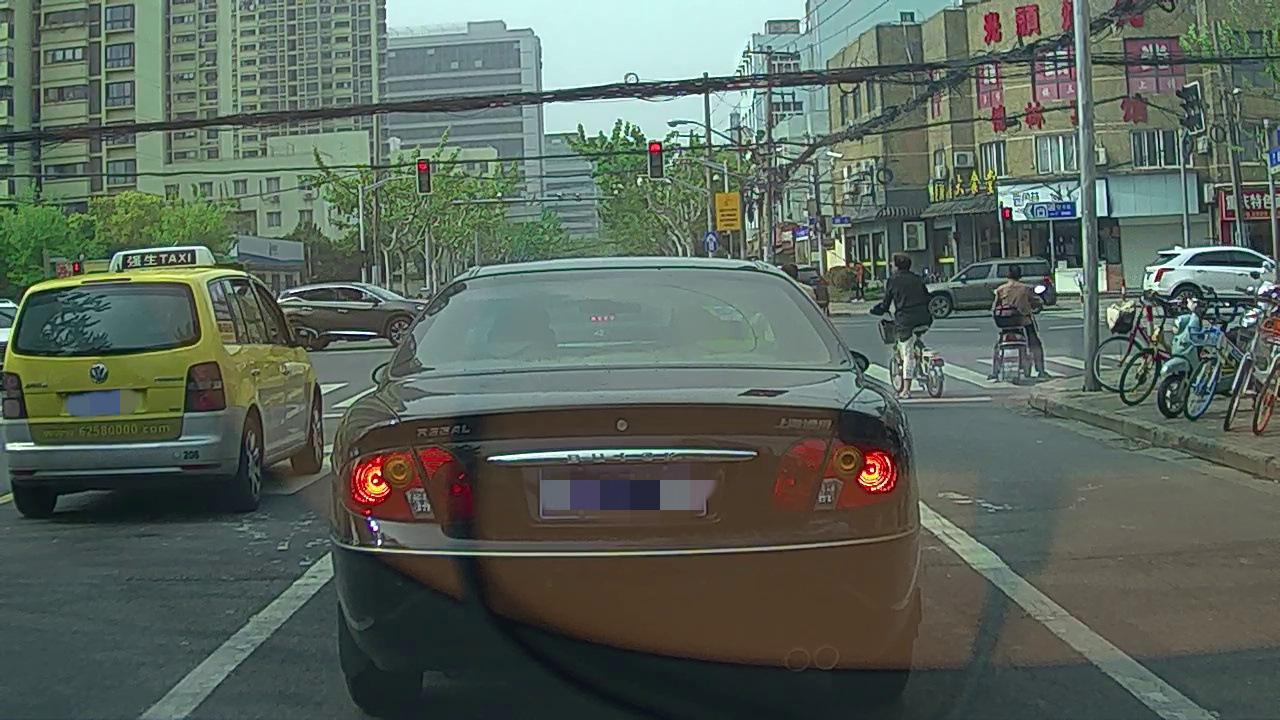traffic_light: (648, 142, 666, 179), (417, 159, 430, 194)
